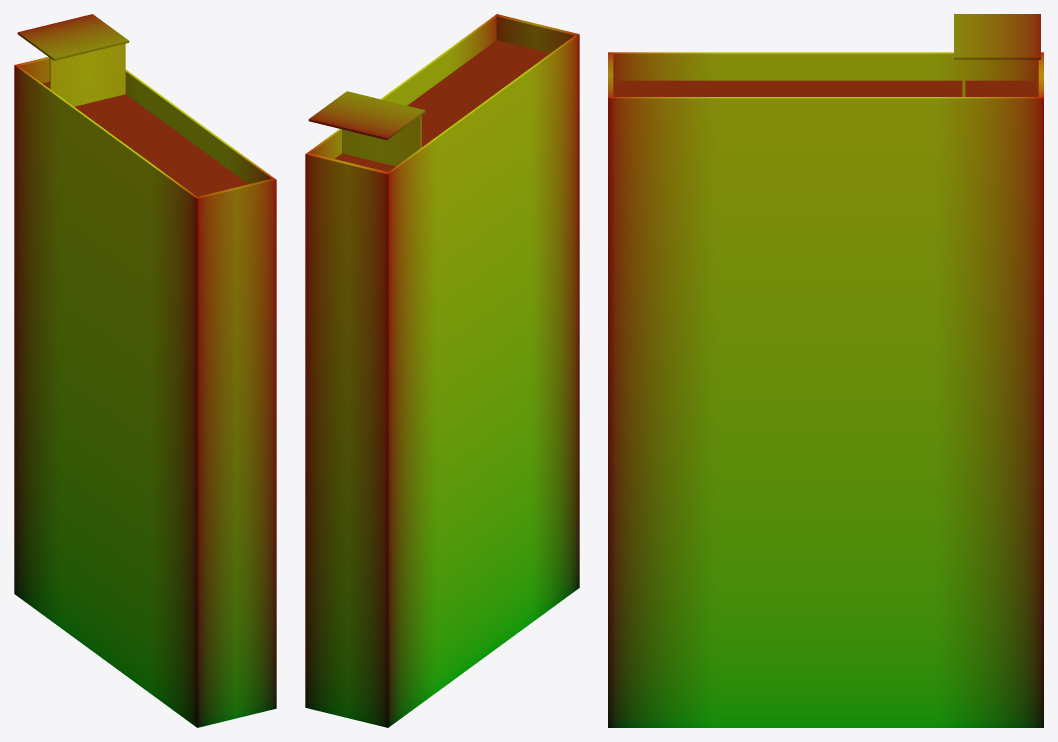
File: khach_san_mini_4x16.far.glb
3 views of the same model, side by side, from view 1: azimuth 30°, elevation 25°; view 2: azimuth 150°, elevation 25°; view 3: azimuth 270°, elevation 25° (orthographic). The views are drawn at different scales.
Parts seen in each view (by area): view 1: khach_san_mini_4x16; view 2: khach_san_mini_4x16; view 3: khach_san_mini_4x16.
Boxes of the visible parts, x1,y1,x2,y2 form: khach_san_mini_4x16: (14, 14, 276, 727); khach_san_mini_4x16: (305, 14, 579, 727); khach_san_mini_4x16: (608, 14, 1043, 727).
Size of what is drawn, in the model's own units: 4 by 27.1 by 16.
